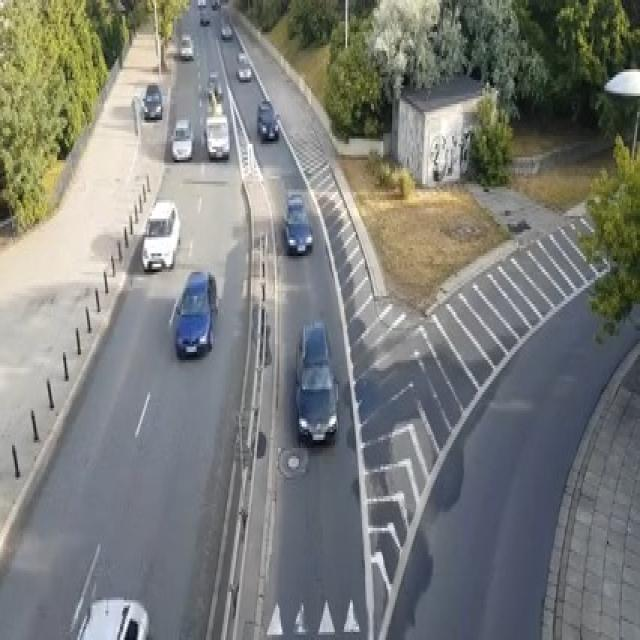car: (294, 317, 338, 443), (170, 270, 218, 358), (70, 595, 148, 637), (142, 200, 180, 272), (284, 208, 312, 253), (204, 115, 230, 160), (170, 117, 194, 160), (256, 99, 280, 141), (141, 83, 162, 120), (286, 189, 304, 219), (206, 69, 222, 99), (236, 51, 251, 80), (179, 32, 194, 59), (221, 21, 233, 40), (198, 8, 209, 24), (210, 0, 220, 8), (197, 0, 206, 8)
